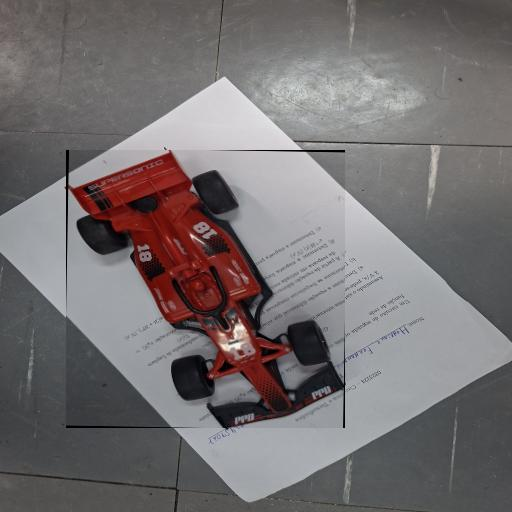carro: (67, 152, 344, 427)
